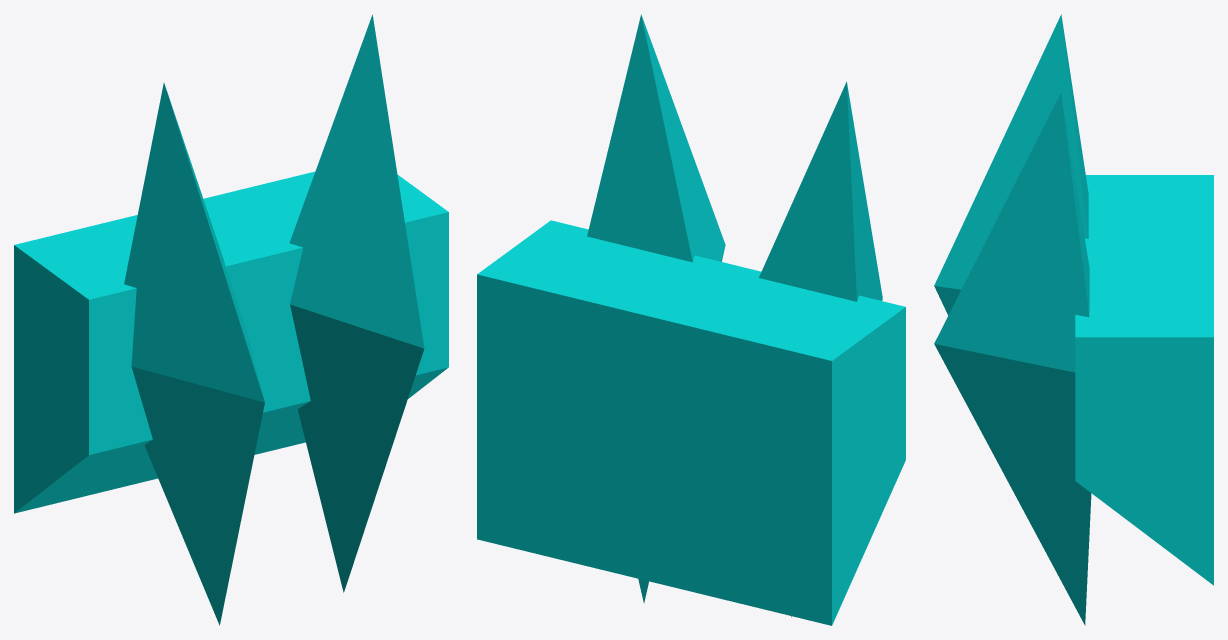
Rendered from SM_Bld_Battlements_Half_03_Collision.fbx.
3 views of the same model, side by side, from view 1: azimuth 30°, elevation 25°; view 2: azimuth 150°, elevation 25°; view 3: azimuth 270°, elevation 25° (orthographic). The views are drawn at different scales.
Visible parts, largest first — view 1: SM_Bld_Battlements_Half_03_Collision; view 2: SM_Bld_Battlements_Half_03_Collision; view 3: SM_Bld_Battlements_Half_03_Collision.
Boxes of the visible parts, x1,y1,x2,y2 form: SM_Bld_Battlements_Half_03_Collision: (14, 14, 448, 625); SM_Bld_Battlements_Half_03_Collision: (477, 14, 905, 625); SM_Bld_Battlements_Half_03_Collision: (934, 14, 1213, 625).
Bounding box in the file's own units: 250 × 388 × 182.
